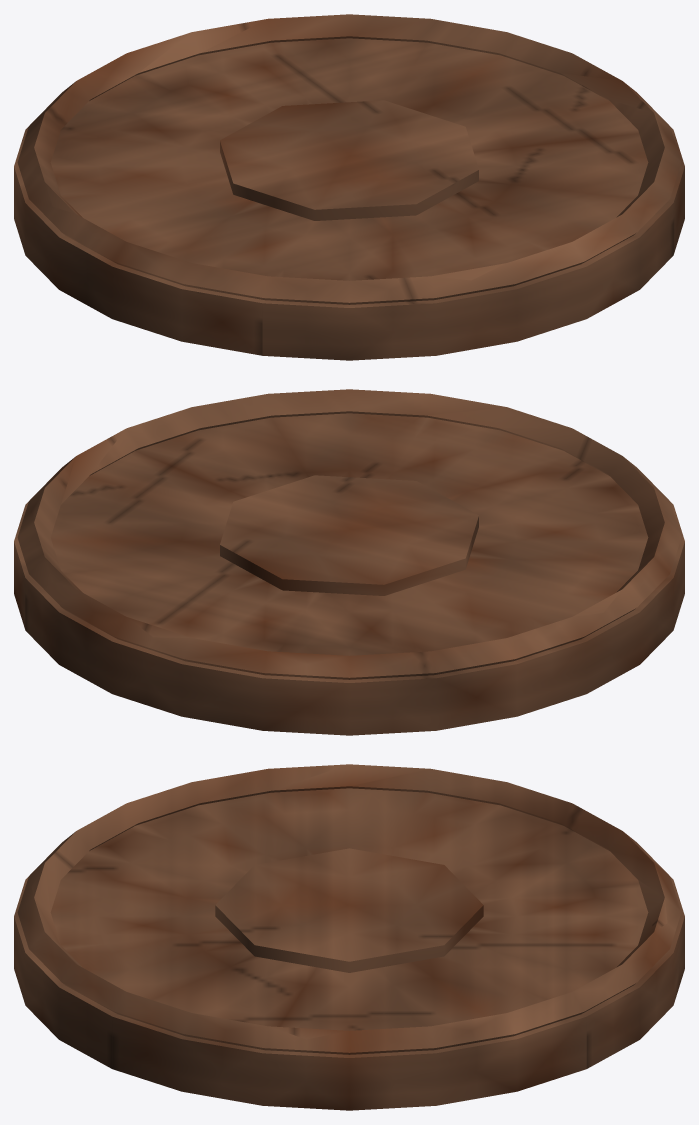
The model's file is coin.glb.
The picture shows the model from 3 angles, top to bottom: view 1: azimuth 30°, elevation 25°; view 2: azimuth 150°, elevation 25°; view 3: azimuth 270°, elevation 25°; orthographic projection.
Parts seen in each view (by area): view 1: coin; view 2: coin; view 3: coin.
Part boxes in pixels (x1,y1,x2,y2): coin: (14, 14, 684, 360); coin: (14, 389, 684, 735); coin: (14, 764, 684, 1110).
Bounding box in the file's own units: 1.62 × 0.19 × 1.62.
1 material, 1 textured.
